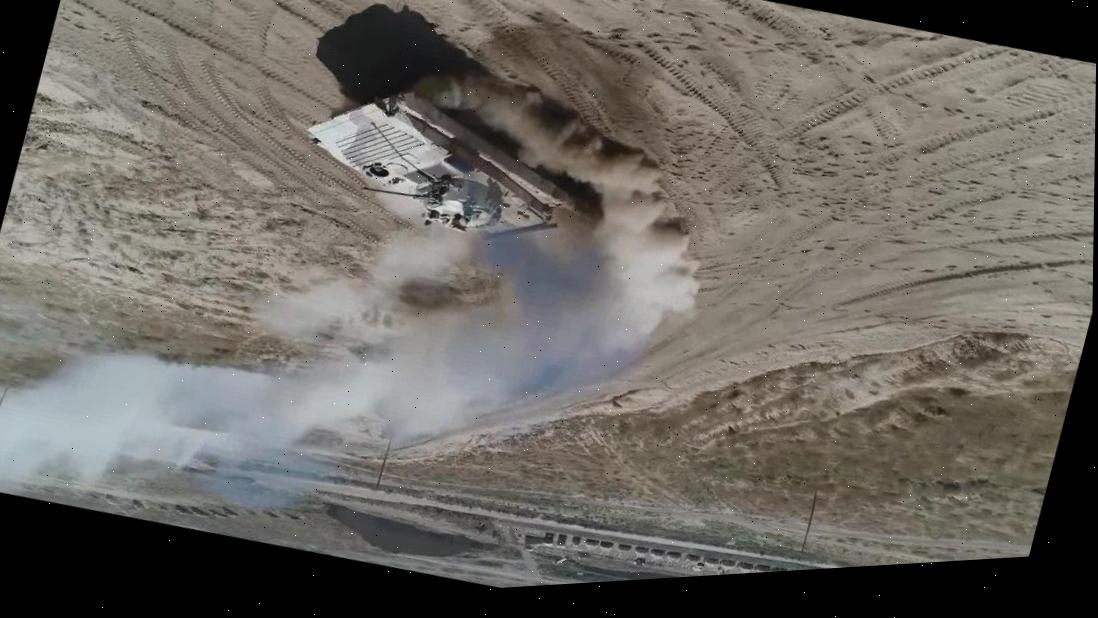tank: (282, 33, 631, 283)
